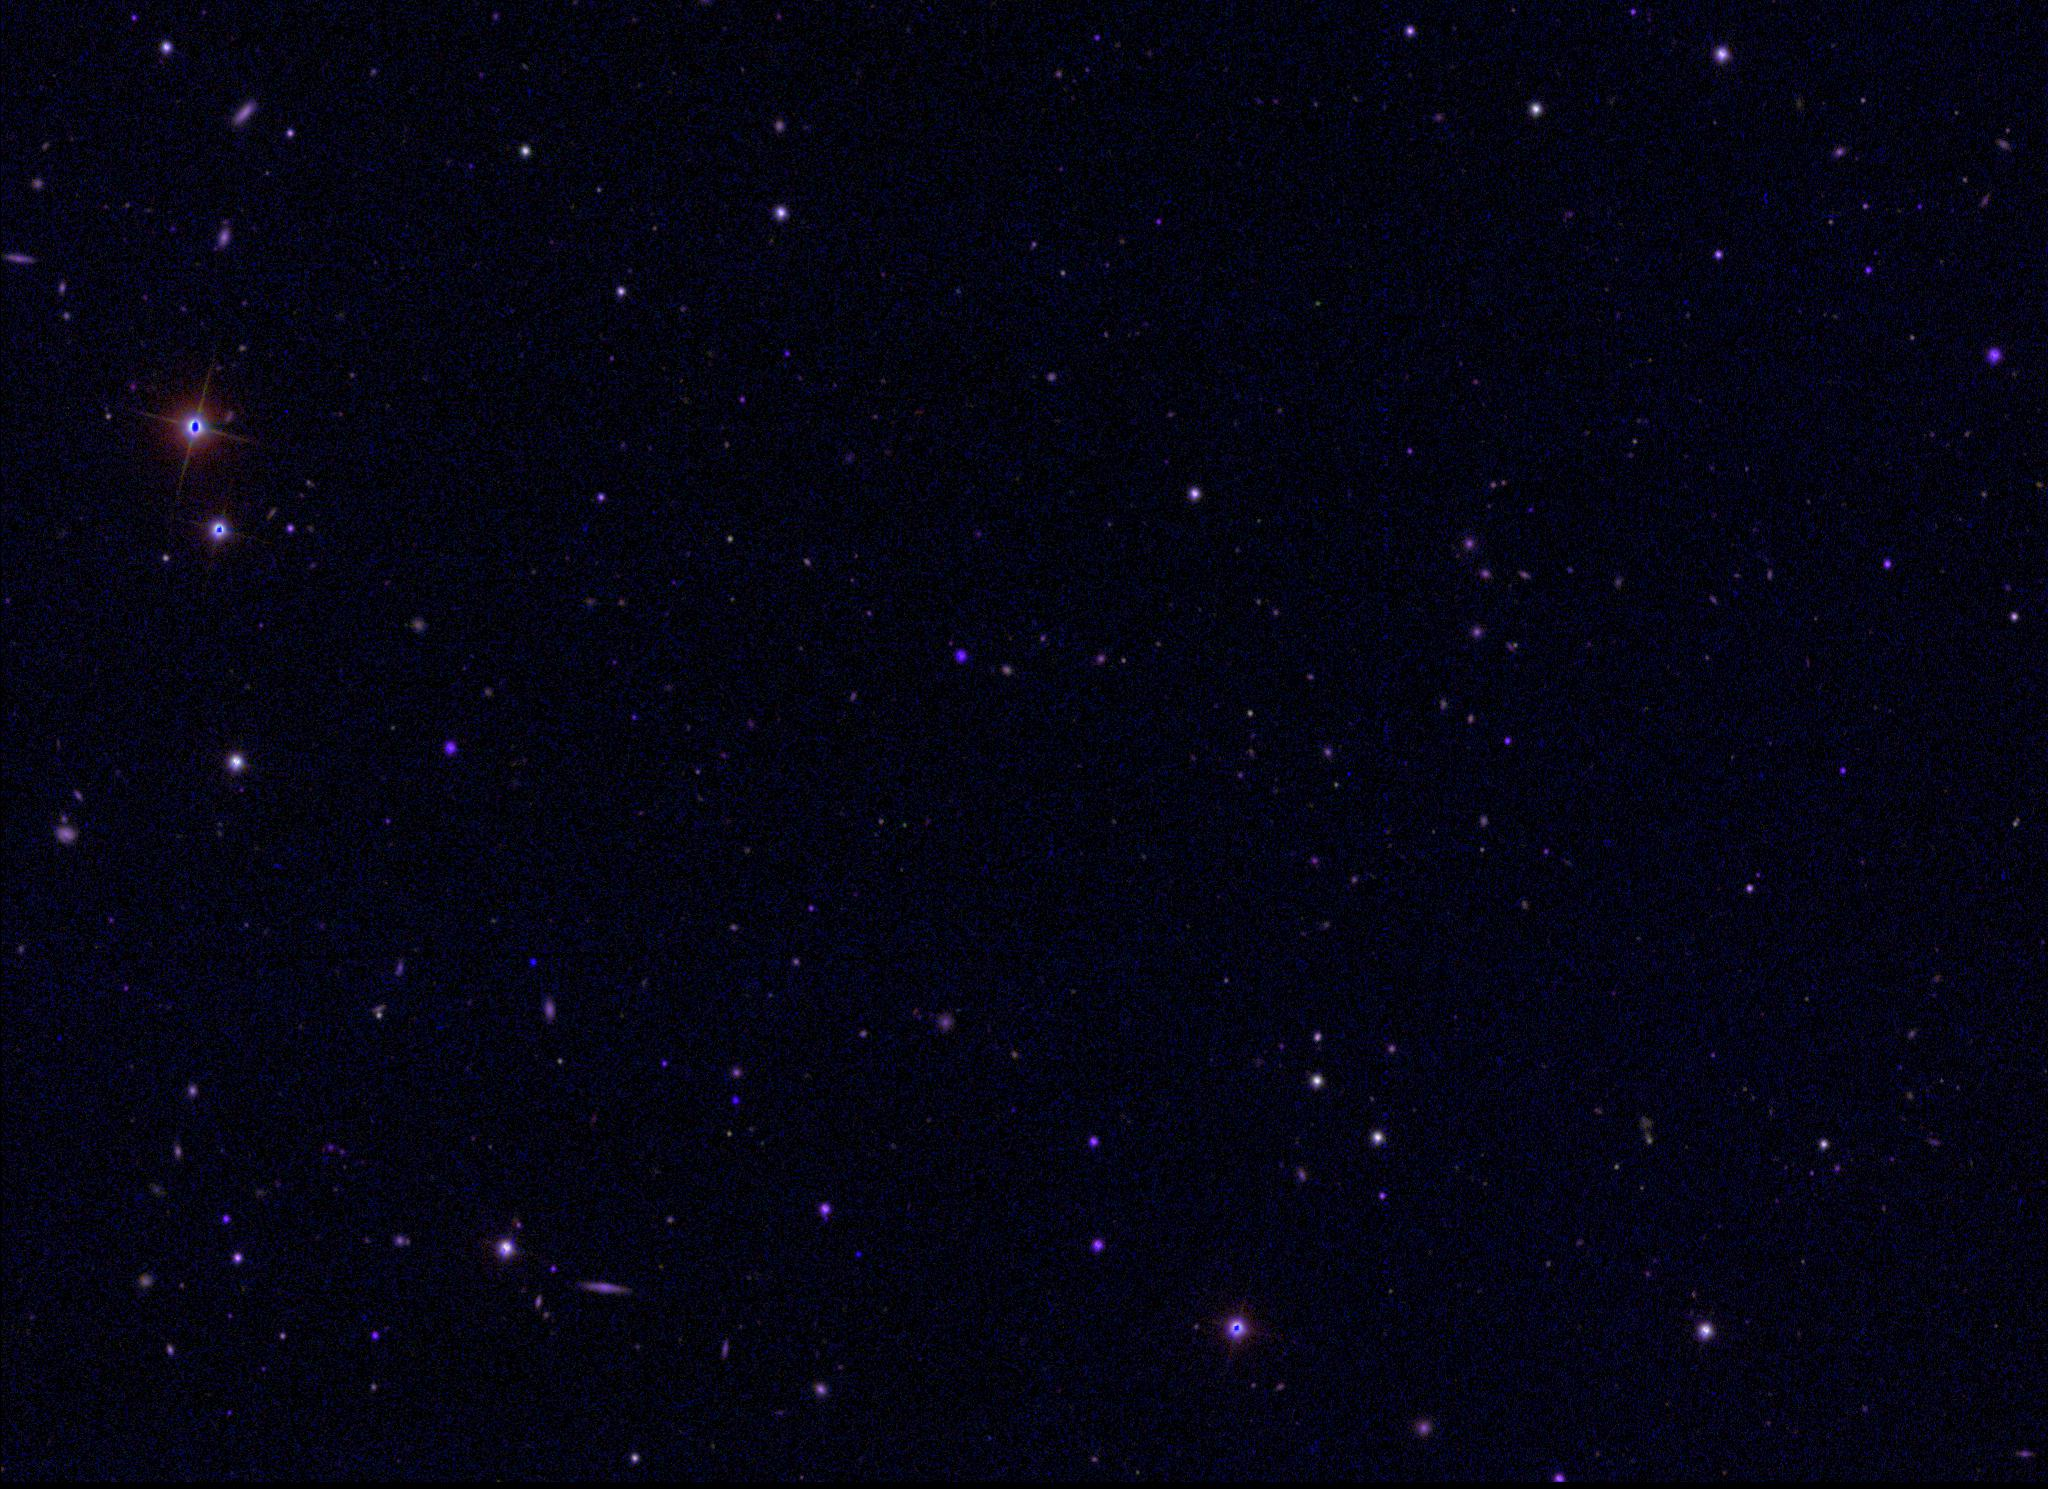L: (526, 954, 541, 967)
